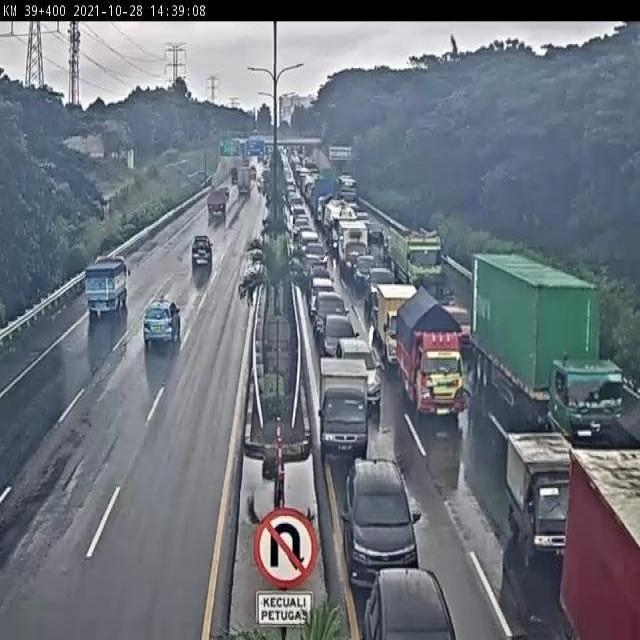Car: (342, 457, 422, 590), (361, 566, 458, 638), (334, 337, 384, 408), (311, 290, 351, 342), (320, 312, 360, 361), (143, 298, 180, 347), (364, 266, 395, 310), (308, 276, 337, 316), (352, 254, 378, 287), (191, 234, 213, 267), (302, 240, 328, 266), (298, 229, 320, 257), (307, 261, 334, 283), (290, 217, 309, 238), (367, 222, 385, 244), (292, 203, 306, 223)
Truck: (469, 252, 627, 450), (557, 445, 640, 639), (395, 285, 466, 421), (504, 430, 576, 559), (316, 354, 371, 462), (375, 281, 421, 367), (388, 223, 444, 287), (84, 253, 132, 317), (335, 218, 370, 281), (323, 199, 358, 254), (313, 176, 336, 224), (336, 173, 358, 207), (207, 188, 228, 216), (236, 165, 252, 198), (230, 167, 238, 184), (248, 165, 256, 182)
